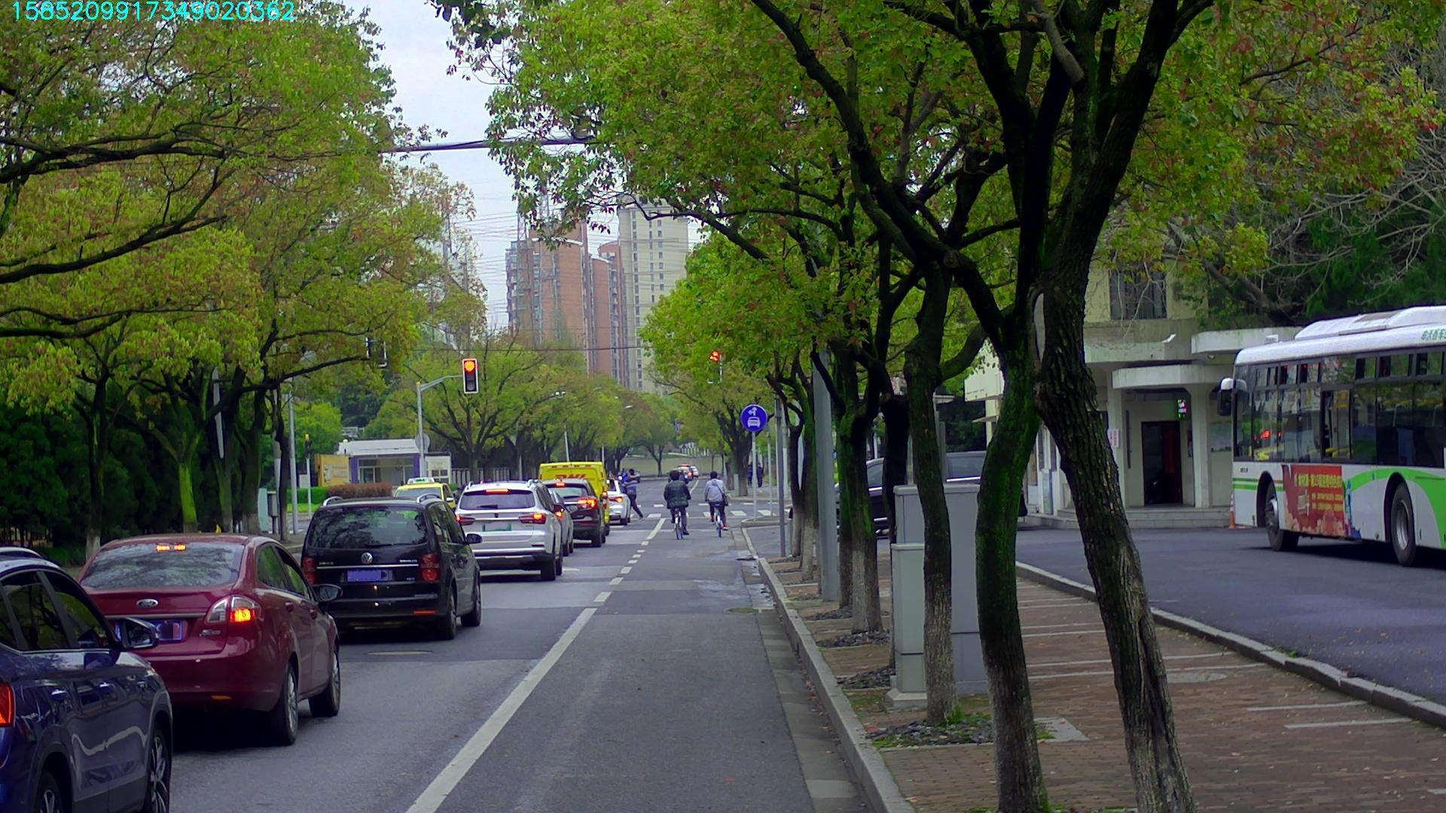red: (462, 358, 477, 392), (707, 350, 720, 382)
